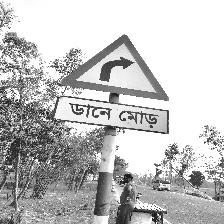Right-turn: (54, 35, 171, 135)
